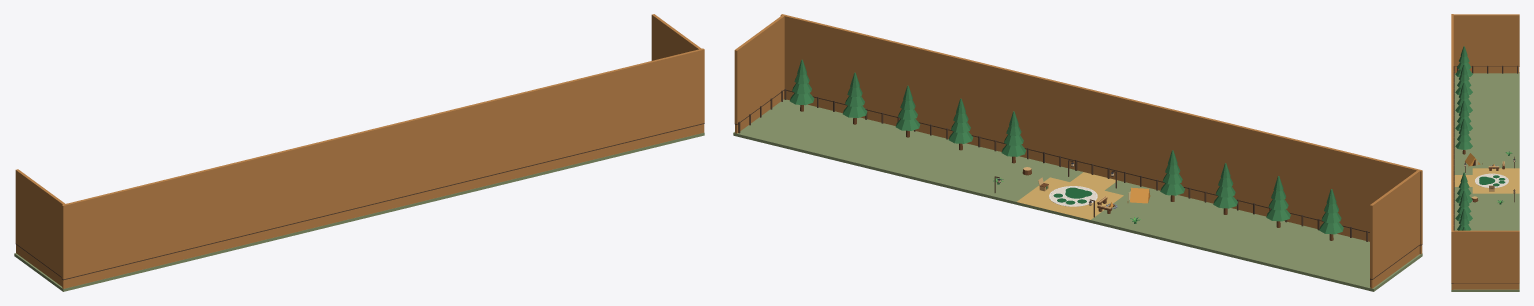
Rendered from CatCafe_Camp_Woods.fbx.
The picture shows the model from 3 angles, left to right: view 1: azimuth 30°, elevation 25°; view 2: azimuth 150°, elevation 25°; view 3: azimuth 270°, elevation 25°; orthographic projection. The views are drawn at different scales.
Parts seen in each view (by area): view 1: CatCafe_Camp_Woods_Barrier, CatCafe_Camp_Woods; view 2: CatCafe_Camp_Woods_Barrier, CatCafe_Camp_Woods, CatCafe_Camp_Woods_007_PineTall, CatCafe_Camp_Woods_010_PineTall, CatCafe_Camp_Woods_008_PineTall, CatCafe_Camp_Woods_009_PineTall, CatCafe_Camp_Woods_014_PineTall, CatCafe_Camp_Woods_015_PineTall, CatCafe_Camp_Woods_016_PineTall, CatCafe_Camp_Woods_017_PineTall, CatCafe_Camp_Woods_018_PineTall; view 3: CatCafe_Camp_Woods, CatCafe_Camp_Woods_Barrier, CatCafe_Camp_Woods_007_PineTall, CatCafe_Camp_Woods_009_PineTall, CatCafe_Camp_Woods_010_PineTall, CatCafe_Camp_Woods_011_PineTall, CatCafe_Camp_Woods_014_PineTall, CatCafe_Camp_Woods_008_PineTall, CatCafe_Camp_Woods_015_PineTall, CatCafe_Camp_Woods_016_PineTall, CatCafe_Camp_Woods_001_Tent.
Part boxes in pixels (x1,y1,x2,y2): CatCafe_Camp_Woods_Barrier: [15, 14, 704, 279]; CatCafe_Camp_Woods: [14, 123, 704, 291]; CatCafe_Camp_Woods_Barrier: [734, 14, 1422, 278]; CatCafe_Camp_Woods: [733, 88, 1422, 291]; CatCafe_Camp_Woods_007_PineTall: [1160, 150, 1184, 201]; CatCafe_Camp_Woods_010_PineTall: [1319, 189, 1343, 240]; CatCafe_Camp_Woods_008_PineTall: [1213, 163, 1237, 214]; CatCafe_Camp_Woods_009_PineTall: [1266, 176, 1290, 227]; CatCafe_Camp_Woods_014_PineTall: [1001, 111, 1026, 163]; CatCafe_Camp_Woods_015_PineTall: [948, 98, 973, 150]; CatCafe_Camp_Woods_016_PineTall: [895, 85, 920, 137]; CatCafe_Camp_Woods_017_PineTall: [843, 72, 867, 124]; CatCafe_Camp_Woods_018_PineTall: [790, 59, 814, 111]; CatCafe_Camp_Woods: [1451, 65, 1519, 291]; CatCafe_Camp_Woods_Barrier: [1451, 14, 1519, 283]; CatCafe_Camp_Woods_007_PineTall: [1455, 118, 1472, 154]; CatCafe_Camp_Woods_009_PineTall: [1455, 82, 1472, 113]; CatCafe_Camp_Woods_010_PineTall: [1455, 64, 1472, 95]; CatCafe_Camp_Woods_011_PineTall: [1455, 46, 1472, 76]; CatCafe_Camp_Woods_014_PineTall: [1455, 172, 1472, 203]; CatCafe_Camp_Woods_008_PineTall: [1455, 100, 1472, 131]; CatCafe_Camp_Woods_015_PineTall: [1455, 190, 1472, 221]; CatCafe_Camp_Woods_016_PineTall: [1457, 208, 1471, 230]; CatCafe_Camp_Woods_001_Tent: [1465, 153, 1482, 166].
Bounding box in the file's own units: 242 × 31 × 32.
Materials: 1 (1 with a texture image).
